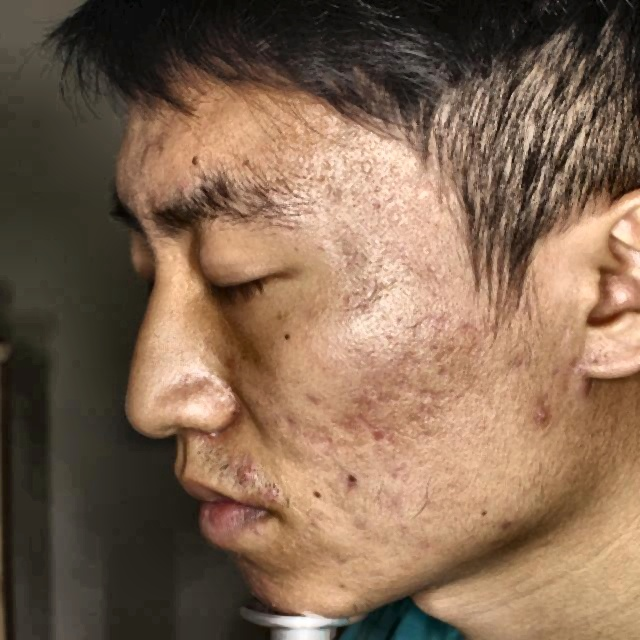comedone: (223, 456, 265, 488), (362, 418, 398, 452), (531, 400, 560, 431)
